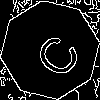C: (25, 25, 84, 82)
